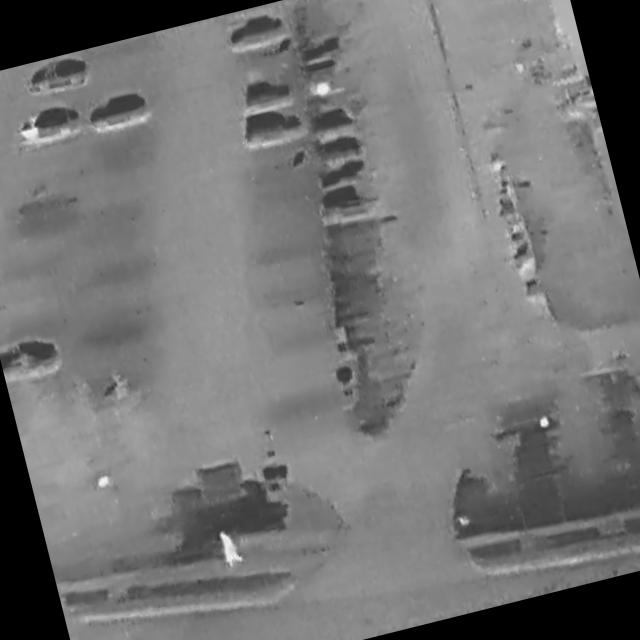person: (218, 525, 247, 573)
